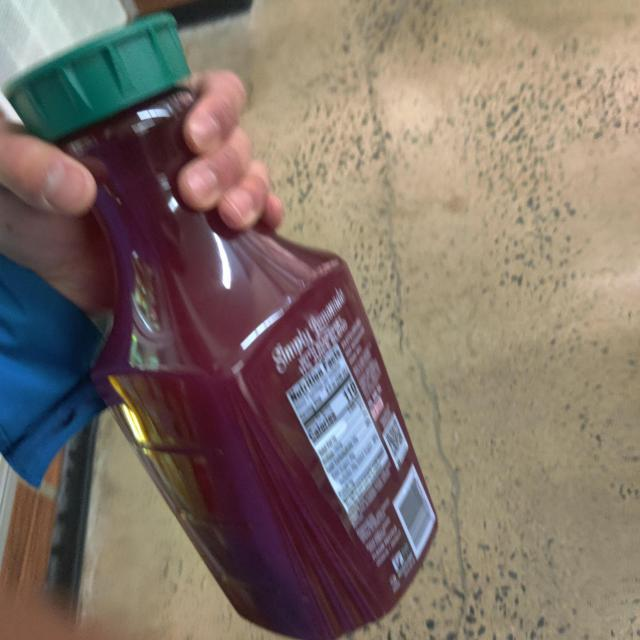Juice: (3, 8, 499, 640)
